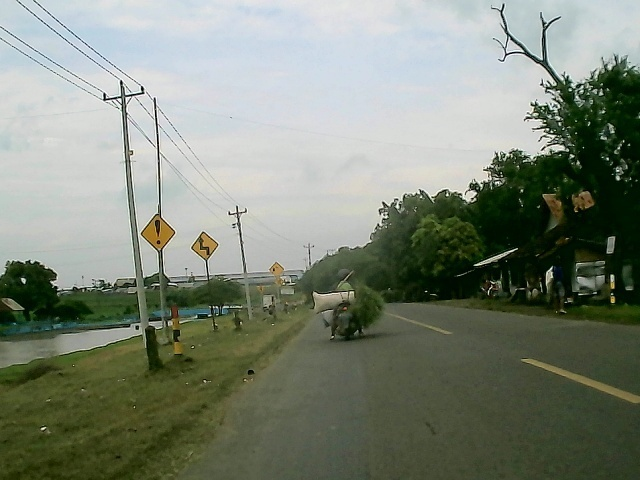Hati-hati: (139, 213, 175, 255)
Peringatan tepi air: (267, 260, 285, 279)
Tikungan garda pertama kiri: (187, 230, 220, 264)
